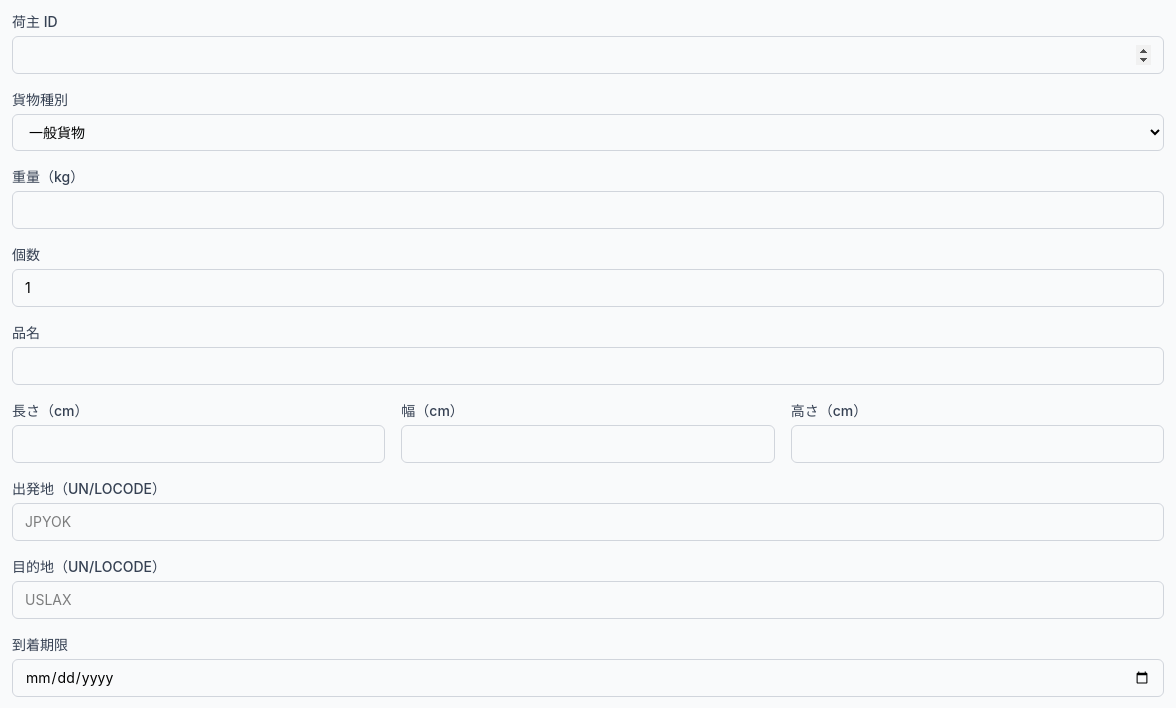
Test: BookingForm › 貨物種別を HAZARDOUS に切り替えると HazardInfo の入力欄が表示される
Select "危険物" in the dropdown labelled "貨物種別" at (588, 132), box x1=12 y1=114 x2=1164 y2=151
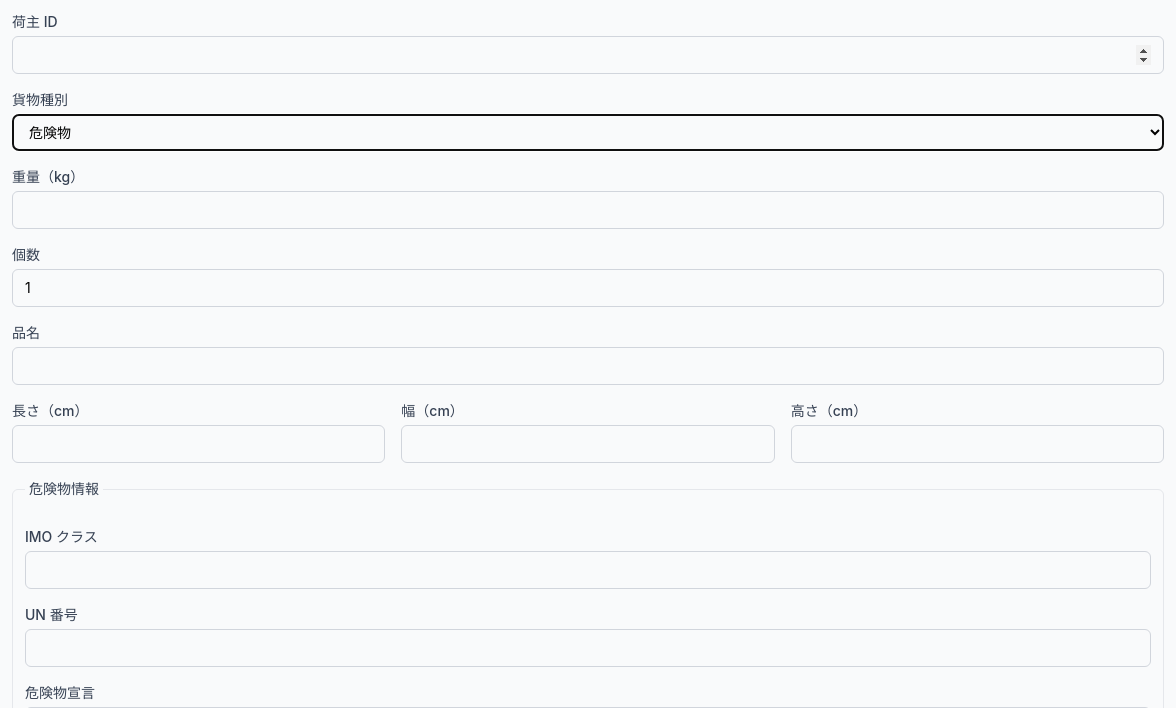
expect the field labelled "IMO クラス" is shown: met, box x1=25 y1=551 x2=1151 y2=589
